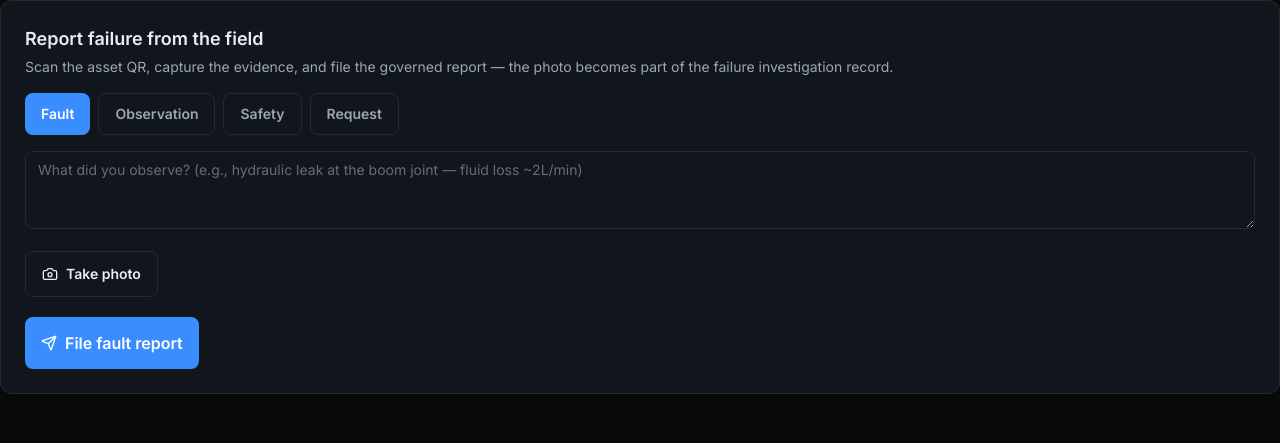
Scenario: FieldFailureCapture › surfaces governed-path errors without losing the report
This screenshot has width=1280, height=443.
Replace the text in the text box with placeholder "What did you observe" with "Something observed on the line". click: point(640, 190)
box: [25, 151, 1255, 229]
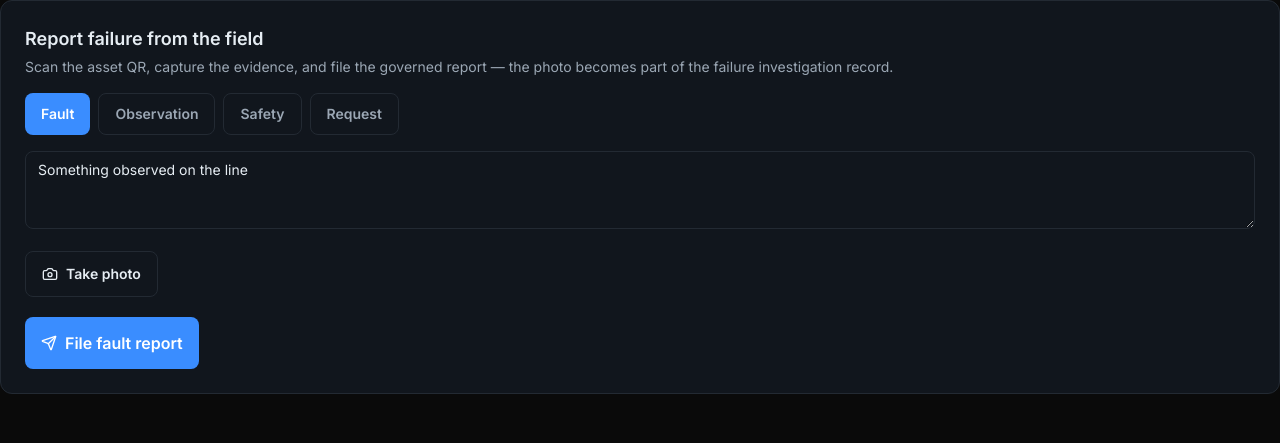
Click the button "File fault report". click: point(112, 343)
box: [25, 317, 199, 369]
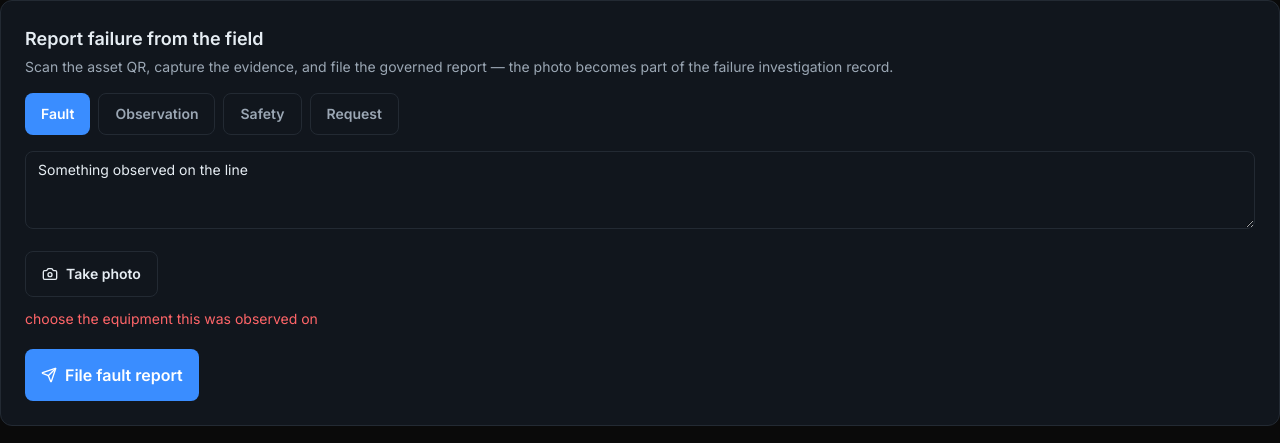
Expected: the message shows "choose the equipment", [25, 310, 318, 327]
